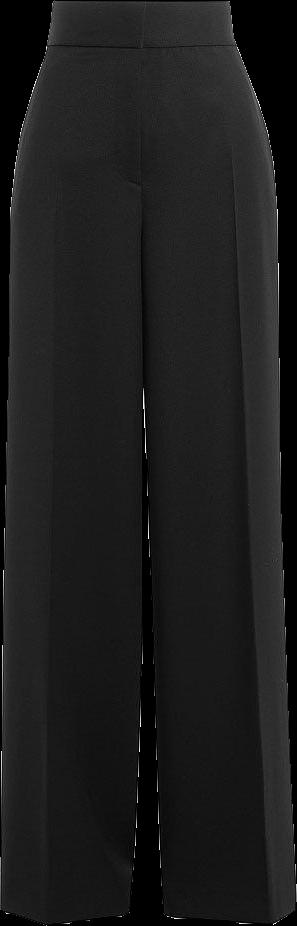Hemline: (163, 899, 296, 924), (1, 901, 133, 924)
Pantleg: (143, 0, 294, 922), (1, 1, 144, 923)
Waistline: (46, 36, 238, 56), (50, 0, 232, 12)
